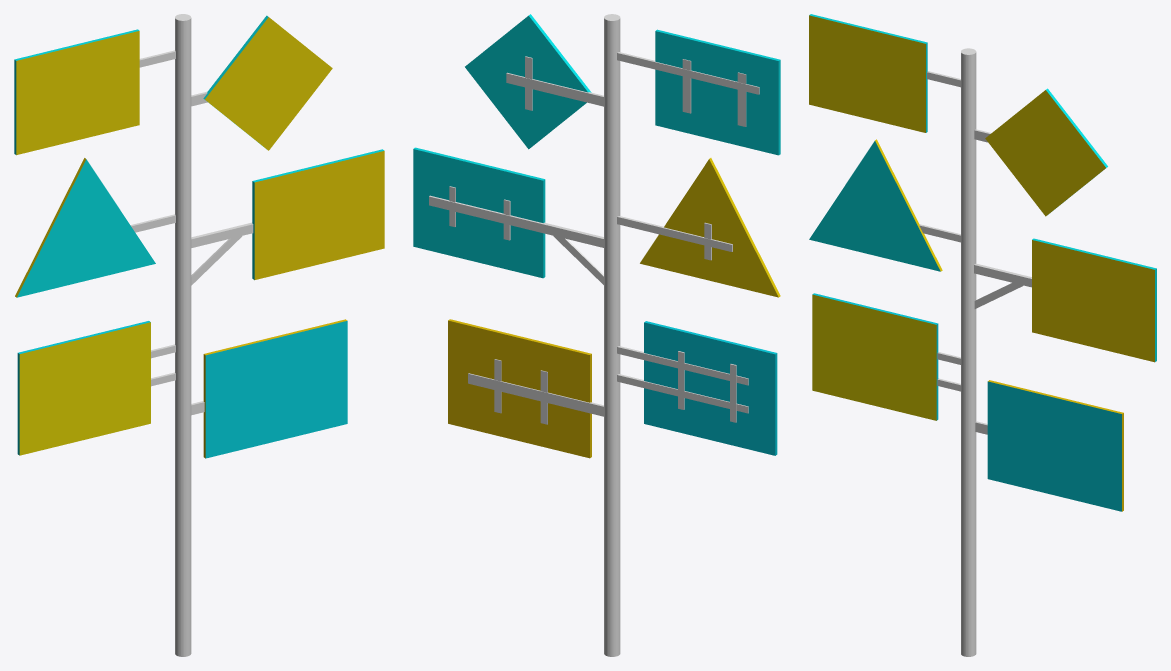
The model's file is pole_002.fbx.
The picture shows the model from 3 angles, left to right: view 1: azimuth 30°, elevation 25°; view 2: azimuth 150°, elevation 25°; view 3: azimuth 330°, elevation 25°; orthographic projection. The views are drawn at different scales.
Visible parts, largest first — view 1: Cube.007, Cube.020, Cube.010, Cube.060, Cylinder, Cube.061, Cube.005, Cube.001; view 2: Cube.007, Cube.020, Cube.010, Cylinder, Cube.060, Cube.061, Cube.005, Cube.001, Cube.004, Cube.012, Cube.006, Cube.019 (+2 smaller); view 3: Cube.007, Cube.020, Cube.010, Cube.060, Cylinder, Cube.061, Cube.005, Cube.001.
Part boxes in pixels (<box>): Cube.007: <box>203,319,347,458</box>; Cube.020: <box>17,321,150,455</box>; Cube.010: <box>252,149,384,280</box>; Cube.060: <box>14,29,139,155</box>; Cylinder: <box>175,14,191,656</box>; Cube.061: <box>15,158,155,297</box>; Cube.005: <box>203,15,332,150</box>; Cube.001: <box>191,222,253,247</box>; Cube.007: <box>448,319,591,458</box>; Cube.020: <box>644,321,777,455</box>; Cube.010: <box>413,147,545,278</box>; Cylinder: <box>604,14,620,656</box>; Cube.060: <box>655,29,780,155</box>; Cube.061: <box>640,158,780,297</box>; Cube.005: <box>465,14,591,149</box>; Cube.001: <box>429,195,603,247</box>; Cube.004: <box>468,373,603,416</box>; Cube.012: <box>617,52,759,94</box>; Cube.006: <box>506,72,603,106</box>; Cube.019: <box>617,216,732,251</box>; Cube.007: <box>987,380,1123,511</box>; Cube.020: <box>812,293,938,420</box>; Cube.010: <box>1032,238,1156,362</box>; Cube.060: <box>809,14,927,132</box>; Cylinder: <box>961,48,976,656</box>; Cube.061: <box>809,139,942,271</box>; Cube.005: <box>985,88,1107,216</box>; Cube.001: <box>974,263,1031,287</box>.
Bounding box in the file's own units: 1636 × 2709 × 63.13.
